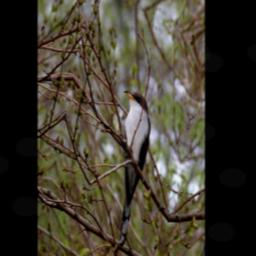Cuckoo: (95, 82, 159, 249)
